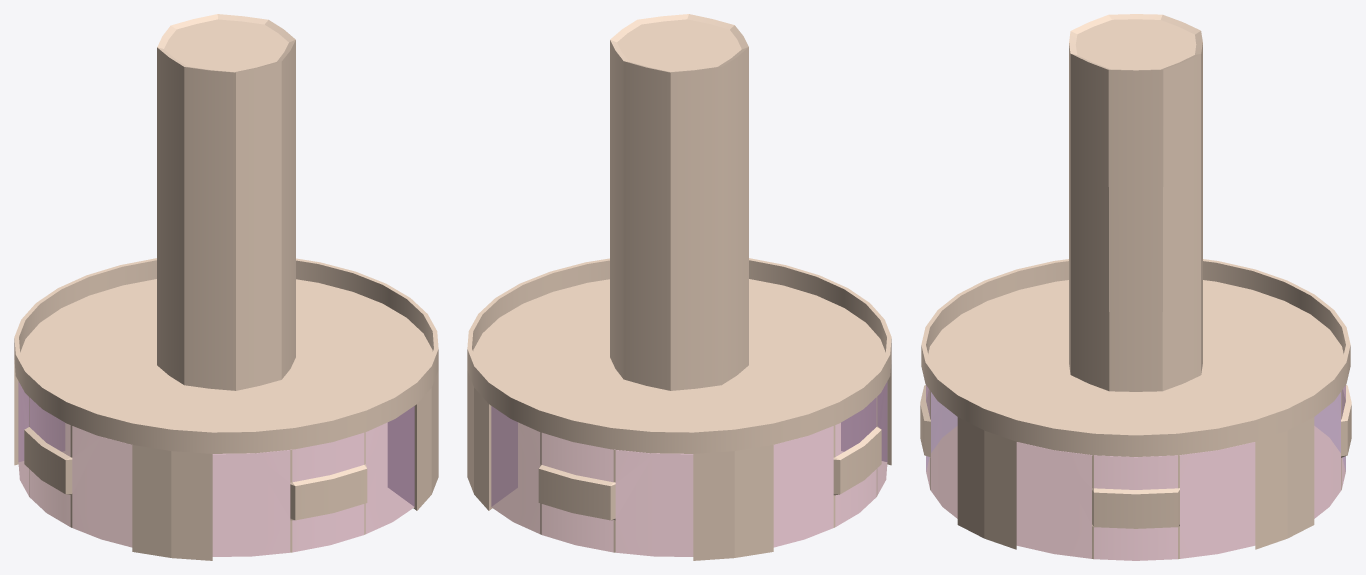
File: Farm_Base.glb
The picture shows the model from 3 angles, left to right: view 1: azimuth 30°, elevation 25°; view 2: azimuth 150°, elevation 25°; view 3: azimuth 270°, elevation 25°; orthographic projection.
Visible parts, largest first — view 1: Plate, Support, Storage Front, Storage Left, Base Front Left, Base Front Right, Storage Right, Storage Back, Base Back Left; view 2: Plate, Support, Storage Back, Storage Left, Base Back Left, Base Back Right, Storage Right, Base Front Left, Storage Front; view 3: Plate, Support, Storage Right, Storage Front, Storage Back, Base Front Right, Base Back Right, Storage Left.
Part boxes in pixels (left/top/right/bottom): Plate: left=14, top=258, right=438, bottom=453; Support: left=157, top=14, right=295, bottom=390; Storage Front: left=212, top=406, right=414, bottom=556; Storage Left: left=18, top=381, right=283, bottom=547; Base Front Left: left=132, top=445, right=212, bottom=560; Base Front Right: left=388, top=370, right=438, bottom=510; Storage Right: left=216, top=422, right=387, bottom=502; Storage Back: left=65, top=423, right=327, bottom=493; Base Back Left: left=14, top=360, right=64, bottom=465; Plate: left=467, top=258, right=891, bottom=453; Support: left=610, top=14, right=748, bottom=390; Storage Back: left=491, top=406, right=693, bottom=556; Storage Left: left=659, top=381, right=887, bottom=547; Base Back Left: left=693, top=445, right=773, bottom=560; Base Back Right: left=467, top=371, right=517, bottom=510; Storage Right: left=518, top=422, right=687, bottom=490; Base Front Left: left=841, top=360, right=891, bottom=465; Storage Front: left=604, top=423, right=840, bottom=470; Plate: left=921, top=259, right=1350, bottom=456; Support: left=1069, top=14, right=1202, bottom=391; Storage Right: left=1016, top=442, right=1255, bottom=560; Storage Front: left=920, top=385, right=1135, bottom=522; Storage Back: left=1136, top=385, right=1351, bottom=522; Base Front Right: left=957, top=417, right=1016, bottom=549; Base Back Right: left=1255, top=417, right=1314, bottom=549; Storage Left: left=1016, top=442, right=1255, bottom=472.
Size of the model in its own units: 1.81 by 2 by 1.81.
